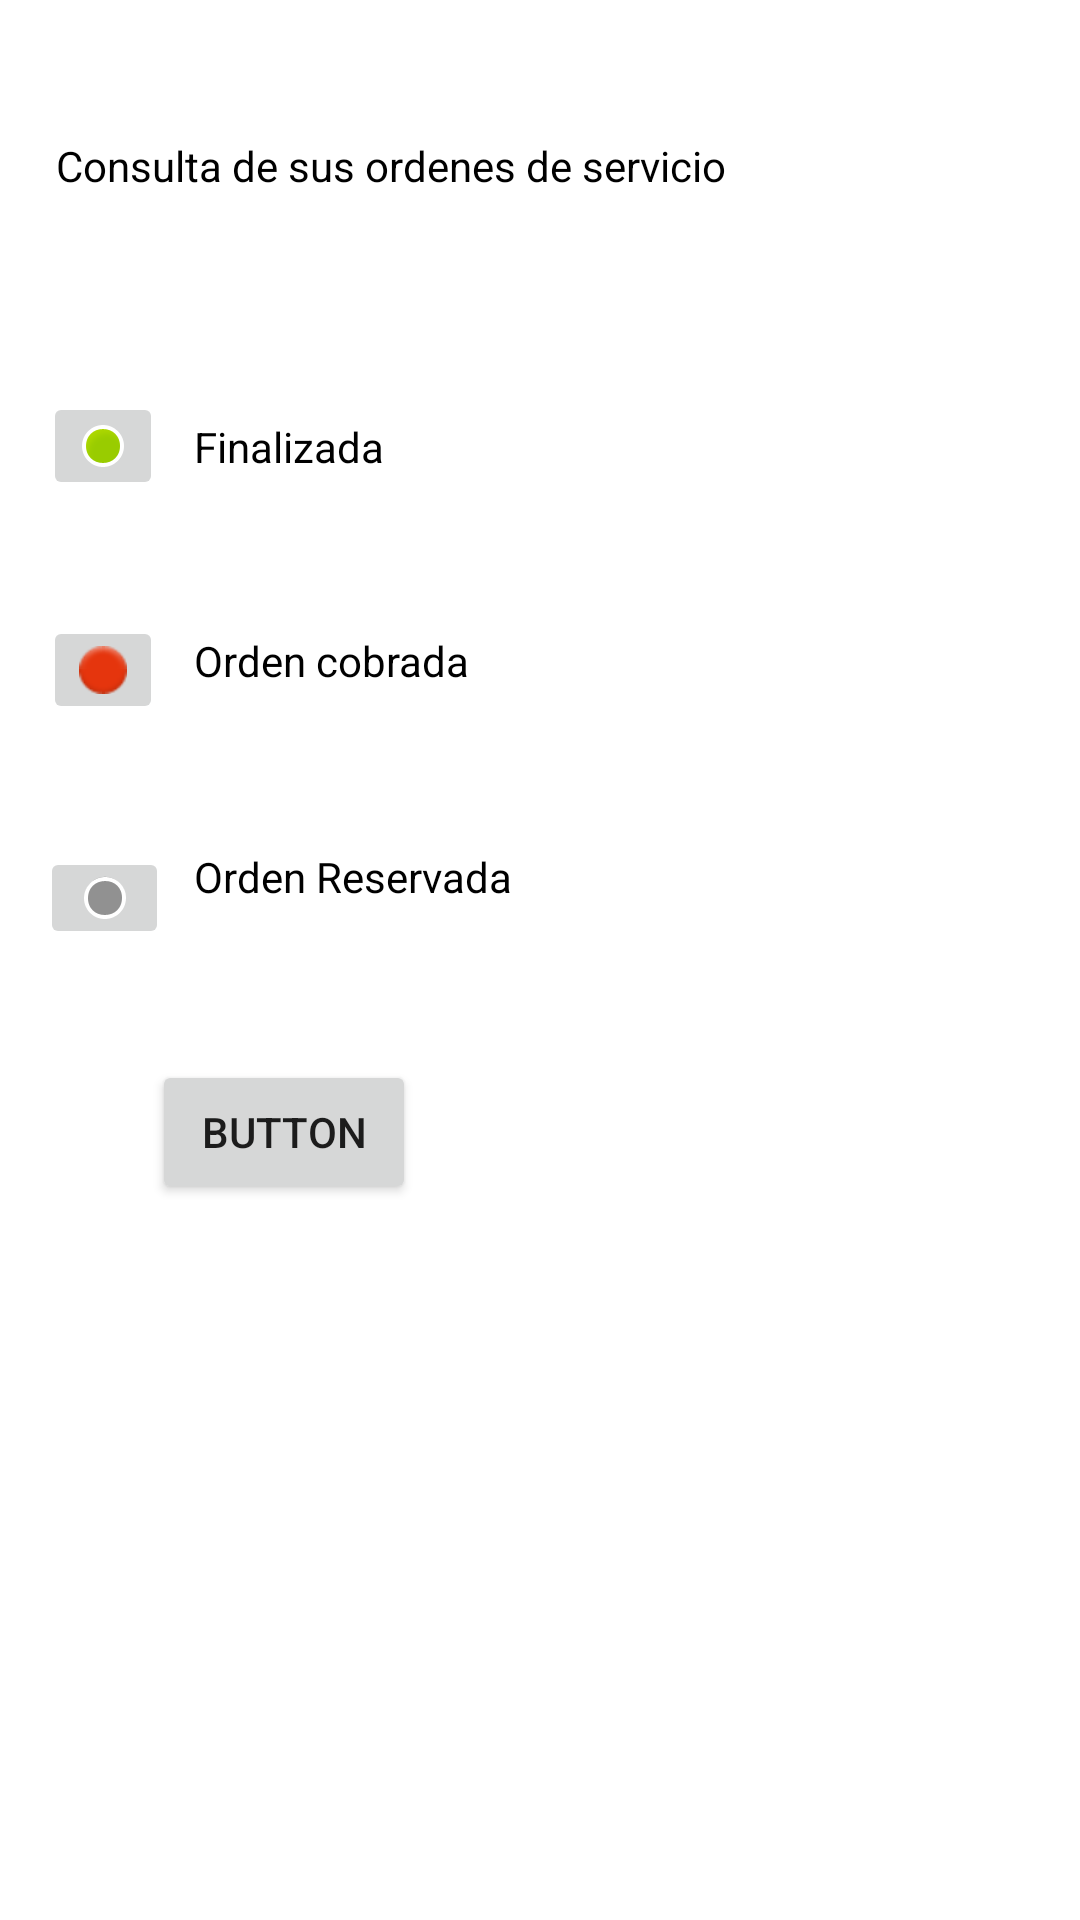

Named icons in this screenshot (1080w x 1920h) and their bounding boxes, (x1, y1, x2, y2):
presence invisible: (52, 865, 157, 931)
presence online: (55, 410, 151, 482)
